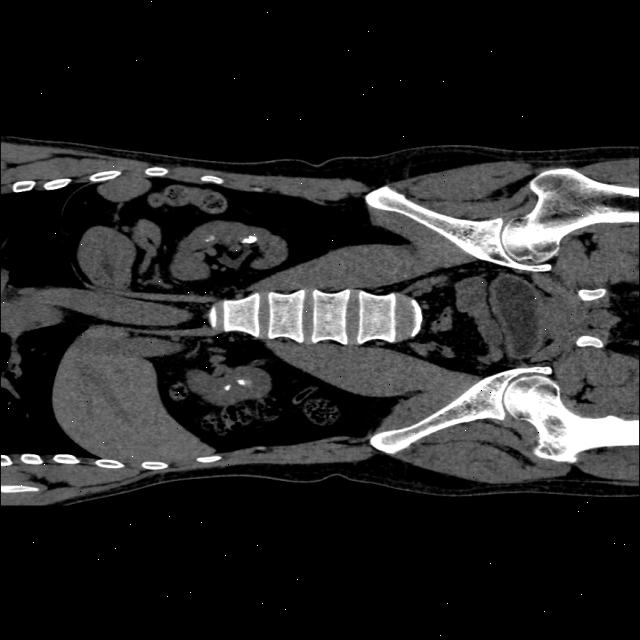kidneystone: (241, 235, 257, 242), (238, 378, 248, 385)
